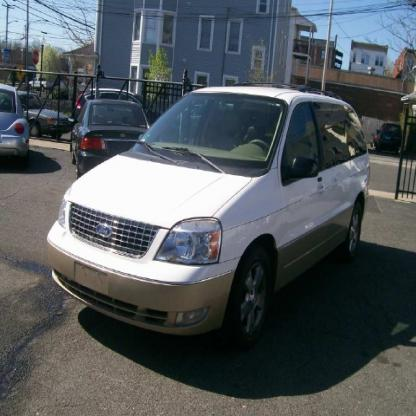Vehicle: (51, 86, 372, 350)
